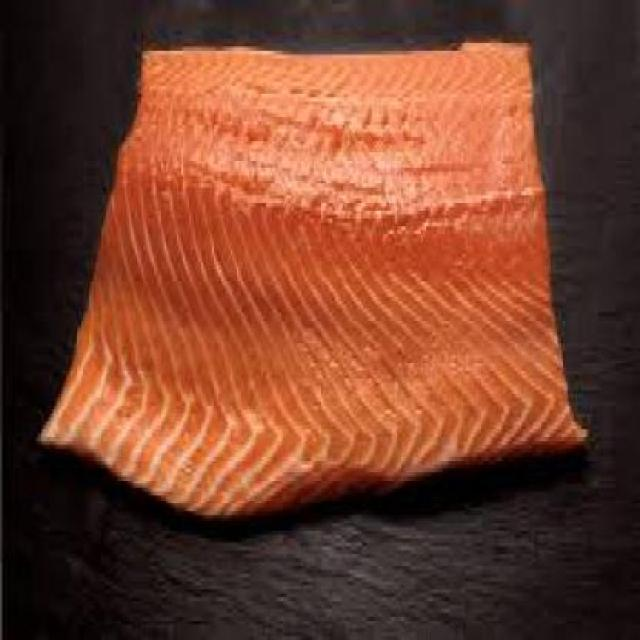salmon: (32, 15, 602, 527)
